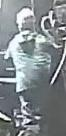helmet: (16, 7, 36, 24)
vest: (10, 33, 51, 91)
